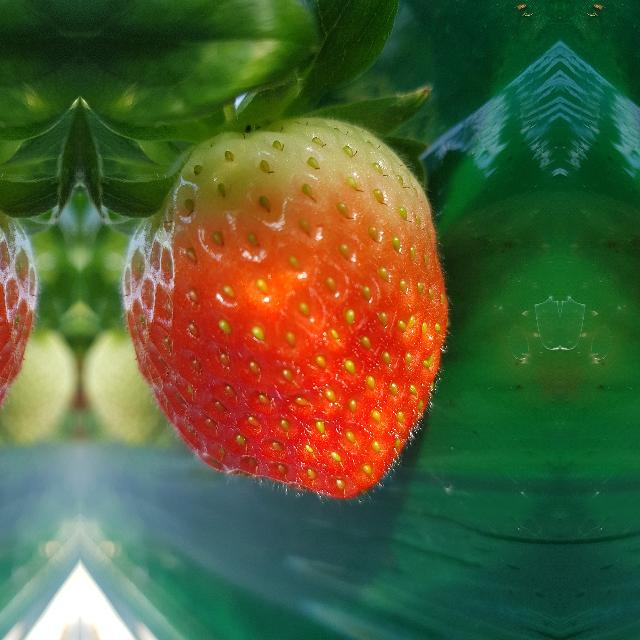Health_75: (120, 116, 450, 502)
